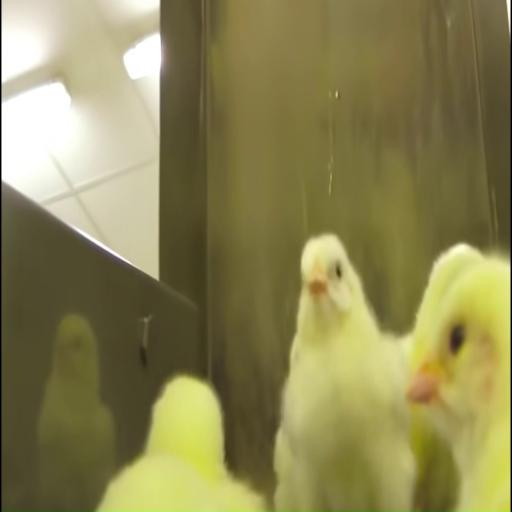chick: (280, 235, 414, 510), (408, 257, 510, 511), (99, 375, 264, 511), (38, 315, 115, 510), (406, 244, 483, 372)
